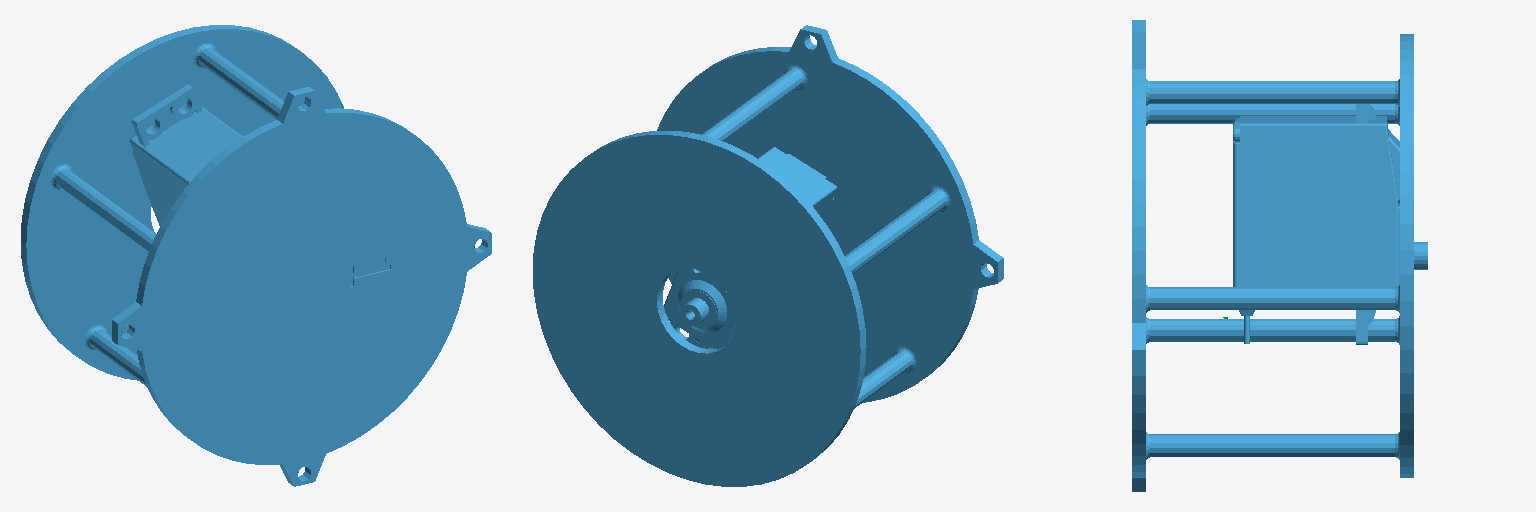
The robot description file, URDF, robot "arm1":
<?xml version="1.0"?>
<robot name="arm1" xmlns:xacro="http://ros.org/wiki/xacro">
<link name="world"/>


<link name="base_link">
<visual>
<geometry>
    <mesh filename="package://siro_arm/models/meshes/visual/Ensamble_1.stl"/>
  </geometry>
</visual> 

</link>

<link name="link_1">
<visual>
<geometry>
    <mesh filename="package://siro_arm/models/meshes/visual/Ensamble_2.stl"/>
  </geometry>
</visual> 

</link>




<joint name="fixed" type="fixed">
    <parent link="world"/>
    <child link="base_link"/>
</joint>

<joint name="joint_1" type="revolute">
<parent link="base_link"/>
<child link="link_1"/>
<origin xyz="0 0 5" rpy="0 0 0"/>
<axis xyz="0 0 1"/>
<limit lower="-1.57" upper="1.57" effort="0" velocity="0.5"/>
</joint>


  <gazebo reference="camera_link">
    <sensor name="depth_camera" type="depth">
      <visualize>true</visualize>
      <update_rate>30.0</update_rate>
      <camera name="camera">
        <horizontal_fov>1.047198</horizontal_fov>
        <image>
          <width>640</width>
          <height>480</height>
          <format>R8G8B8</format>
        </image>
        <clip>
          <near>0.05</near>
          <far>3</far>
        </clip>
      </camera>
      <plugin name="depth_camera_controller" filename="libgazebo_ros_camera.so">
        <baseline>0.2</baseline>
        <alwaysOn>true</alwaysOn>
        <updateRate>0.0</updateRate>
        <frame_name>camera_depth_frame</frame_name>
        <pointCloudCutoff>0.5</pointCloudCutoff>
        <pointCloudCutoffMax>3.0</pointCloudCutoffMax>
        <distortionK1>0</distortionK1>
        <distortionK2>0</distortionK2>
        <distortionK3>0</distortionK3>
        <distortionT1>0</distortionT1>
        <distortionT2>0</distortionT2>
        <CxPrime>0</CxPrime>
        <Cx>0</Cx>
        <Cy>0</Cy>
        <focalLength>0</focalLength>
        <hackBaseline>0</hackBaseline>
      </plugin>
    </sensor>

    <sensor name="my_camera_sensor" update_rate="20">
      <parent link="optical_frame_link_name"/>
      <origin xyz="0 0 0" rpy="0 0 0"/>
      <camera>
        <image width="640" height="480" hfov="1.5708" format="RGB8" near="0.01" far="50.0"/>
      </camera>
    </sensor>

  </gazebo>



</robot>

--- What the picture shows (computed from the rendered views, not written in the file) ---
Views: 3 orthographic renders of the robot side by side, from view 1: azimuth 30°, elevation 25°; view 2: azimuth 150°, elevation 25°; view 3: azimuth 270°, elevation 25°.
Robot: arm1 — 3 links, 2 joints (1 revolute, 1 fixed); root link world; default pose: all joints at 0.
Links seen in each view (by area): view 1: base_link; view 2: base_link; view 3: base_link.
Link boxes in pixels (x1,y1,x2,y2): base_link: (21,25,491,486); base_link: (533,25,1003,486); base_link: (1132,20,1427,491).
Size in the robot's own frame: 109 by 63.66 by 109 metres.
Meshes: 2 distinct files referenced, 2 mesh visuals loaded (2 binary STL).
